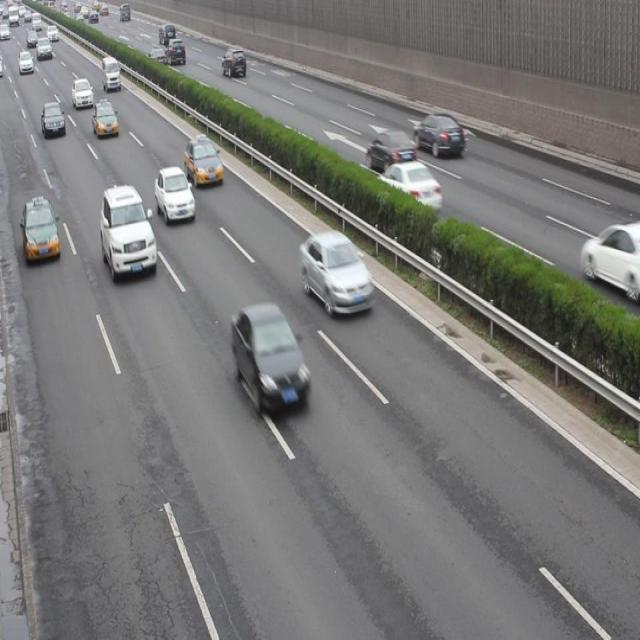car: (230, 301, 308, 414), (298, 228, 372, 316), (100, 183, 158, 279), (579, 220, 640, 298), (374, 162, 440, 212), (22, 194, 61, 267), (411, 111, 464, 159), (153, 164, 195, 224), (365, 129, 417, 173), (185, 136, 222, 188), (92, 100, 119, 139), (41, 100, 66, 142)
